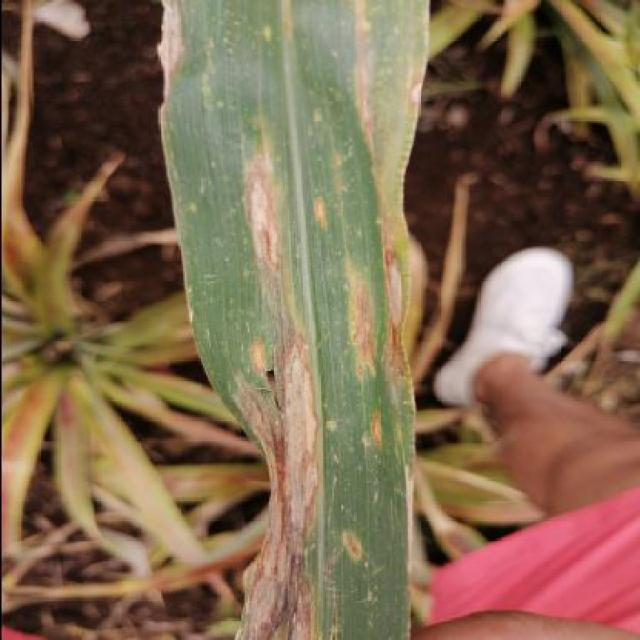Corn_Leaf_Blight: (149, 4, 424, 640)
